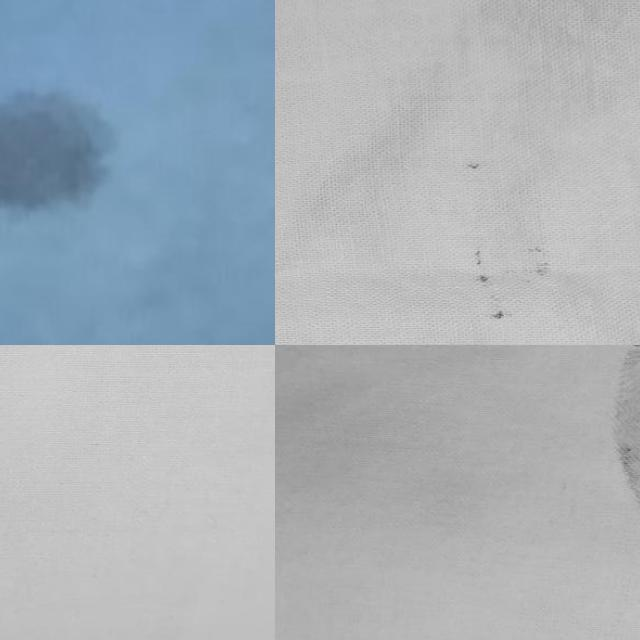Hole: (0, 33, 183, 263), (509, 345, 640, 640), (436, 143, 584, 345)
